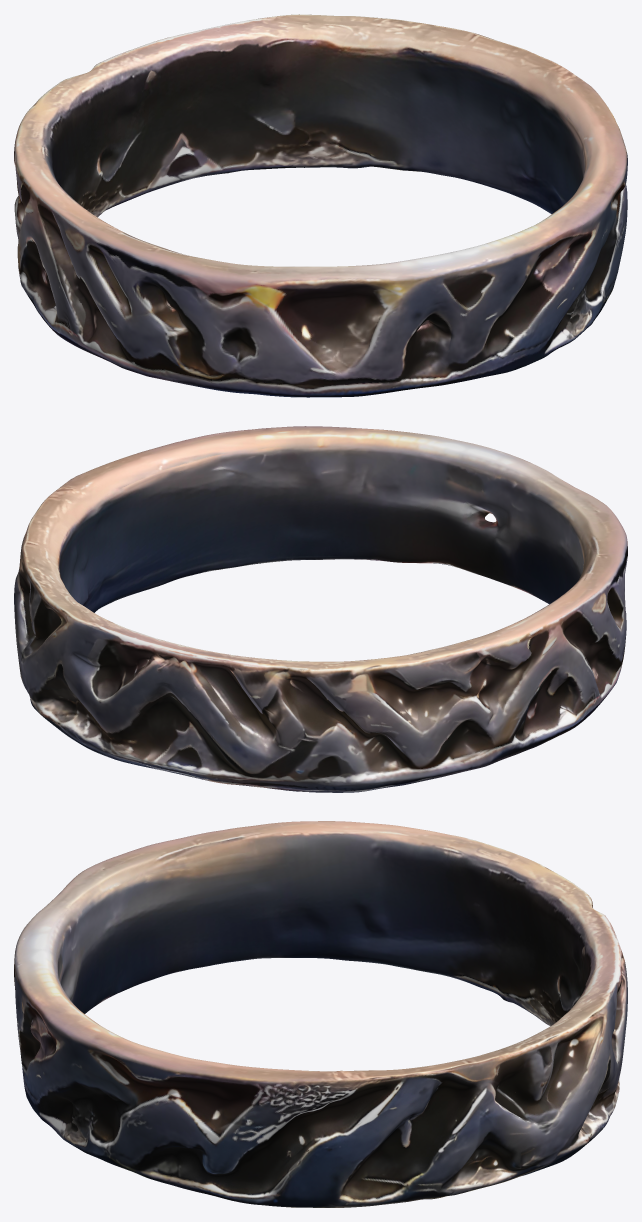
File: SilverRing_Zigzag.glb
3 renders of one model, top to bottom at view 1: azimuth 30°, elevation 25°; view 2: azimuth 150°, elevation 25°; view 3: azimuth 270°, elevation 25°, orthographic. The views are drawn at different scales.
Visible parts, largest first — view 1: mvadapter_node_textured_6173434; view 2: mvadapter_node_textured_6173434; view 3: mvadapter_node_textured_6173434.
Part boxes in pixels (x1,y1,x2,y2): mvadapter_node_textured_6173434: (14,14,627,397); mvadapter_node_textured_6173434: (14,426,627,792); mvadapter_node_textured_6173434: (14,821,627,1207).
Size of the model in its own units: 1.87 by 0.4749 by 1.87.
Materials: 1 (1 with a texture image).
